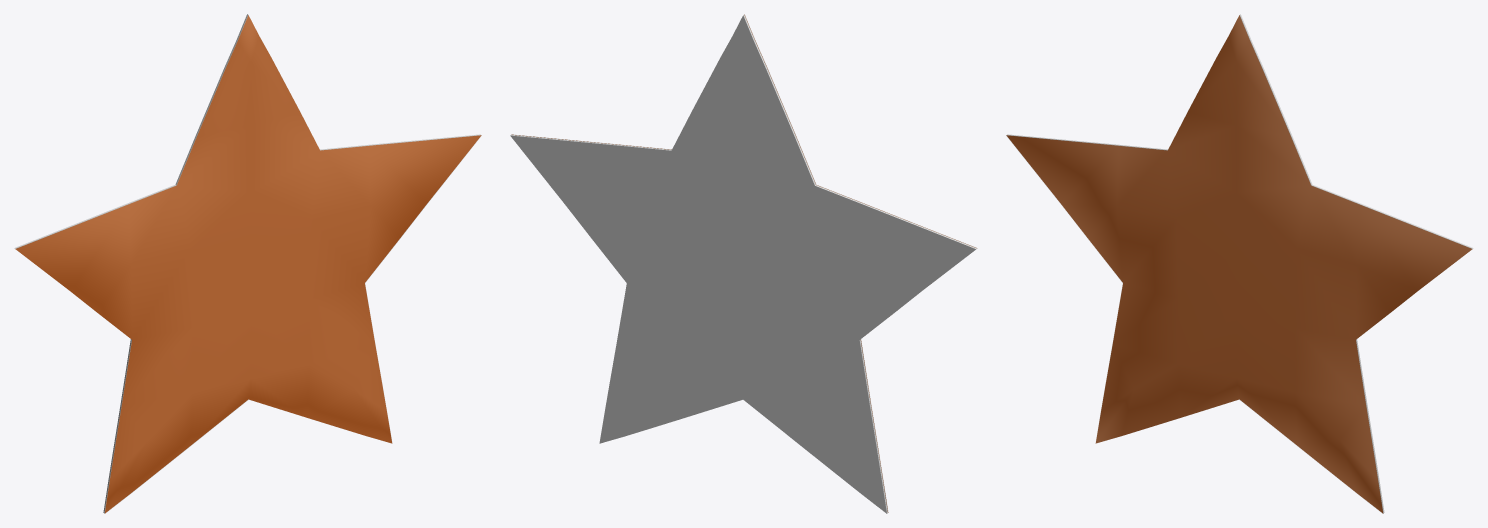
The model's file is hosi_oren.glb.
3 renders of one model, left to right at view 1: azimuth 30°, elevation 25°; view 2: azimuth 150°, elevation 25°; view 3: azimuth 330°, elevation 25°, orthographic.
Parts seen in each view (by area): view 1: Plane.001, Plane.002, Plane; view 2: Plane, Plane.001; view 3: Plane.001, Plane.002, Plane.
Boxes of the visible parts, left/top/right/bottom form: Plane.001: left=15, top=15, right=481, bottom=513; Plane.002: left=16, top=15, right=481, bottom=513; Plane: left=14, top=14, right=480, bottom=513; Plane: left=510, top=14, right=976, bottom=513; Plane.001: left=512, top=14, right=976, bottom=512; Plane.001: left=1006, top=15, right=1472, bottom=513; Plane.002: left=1006, top=15, right=1471, bottom=513; Plane: left=1007, top=14, right=1473, bottom=513.
Size of the model in its own units: 1.95 by 1.85 by 0.0288.
